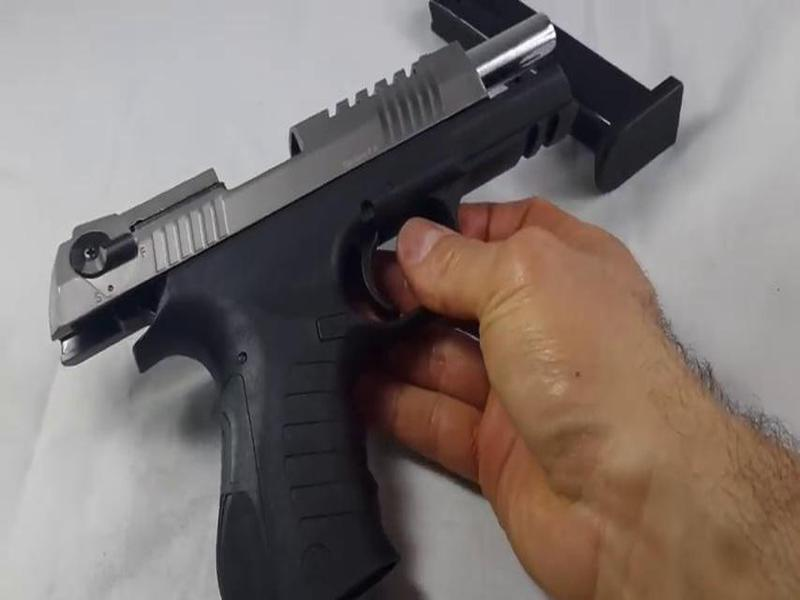Pistola: (28, 2, 585, 593)
